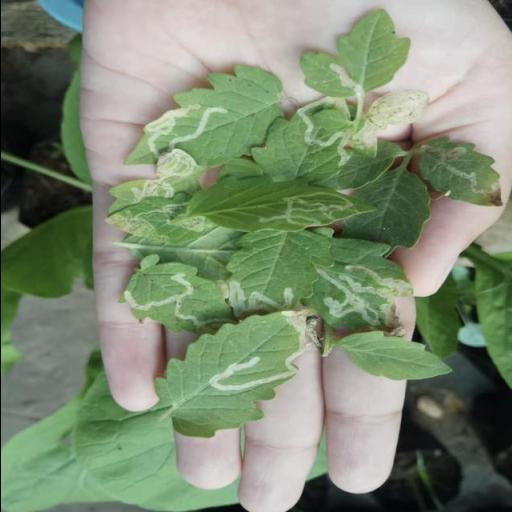disease_tomato: (151, 310, 309, 440), (118, 66, 282, 168), (191, 176, 379, 232), (117, 250, 236, 334), (300, 8, 411, 98), (313, 262, 415, 330), (416, 134, 504, 208), (104, 194, 211, 244)
